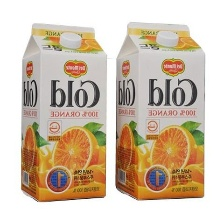carton: (112, 12, 208, 201), (15, 18, 108, 205)
